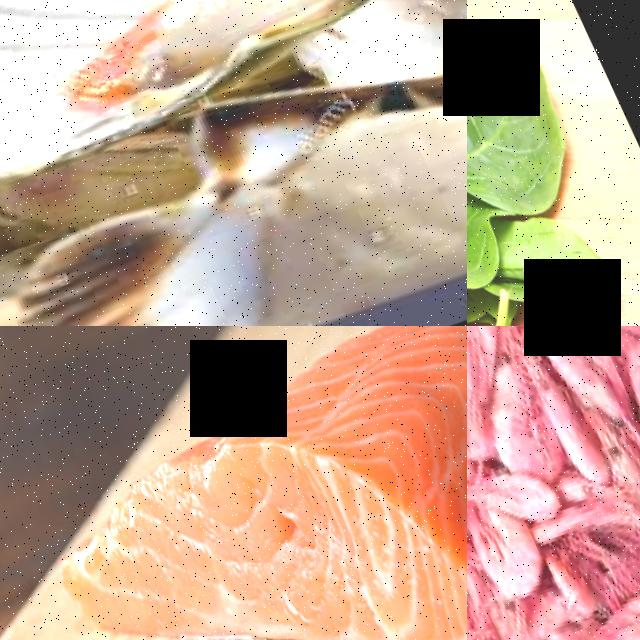salmon: (2, 326, 467, 640)
shrimp: (529, 326, 640, 438), (467, 444, 562, 539), (467, 504, 555, 606), (467, 326, 526, 411), (574, 566, 640, 640), (605, 326, 640, 445)
spinach: (467, 0, 601, 226), (467, 169, 508, 297)
